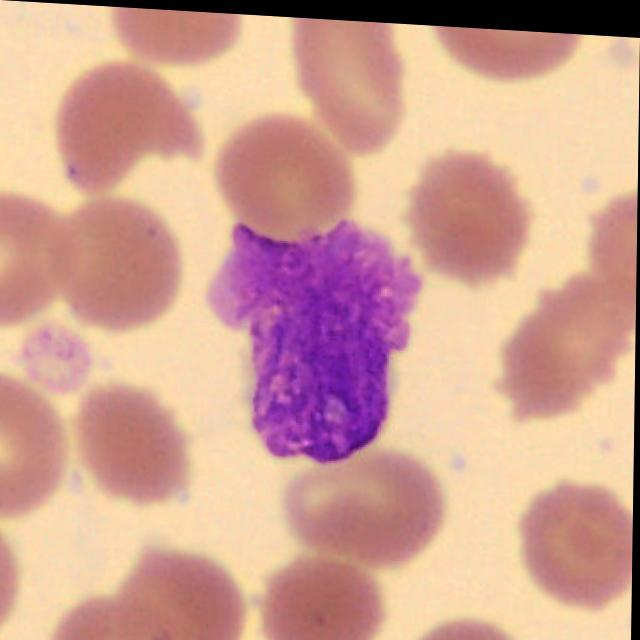Restos celulares: (208, 214, 424, 459)
